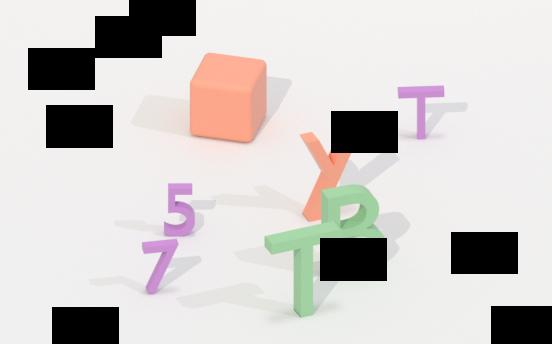5: (160, 181, 201, 239)
7: (138, 238, 184, 295)
Y: (294, 122, 362, 211)
b: (318, 182, 389, 278)
hop: (181, 50, 276, 146)
t-hoa: (261, 220, 348, 320), (395, 77, 449, 142)
